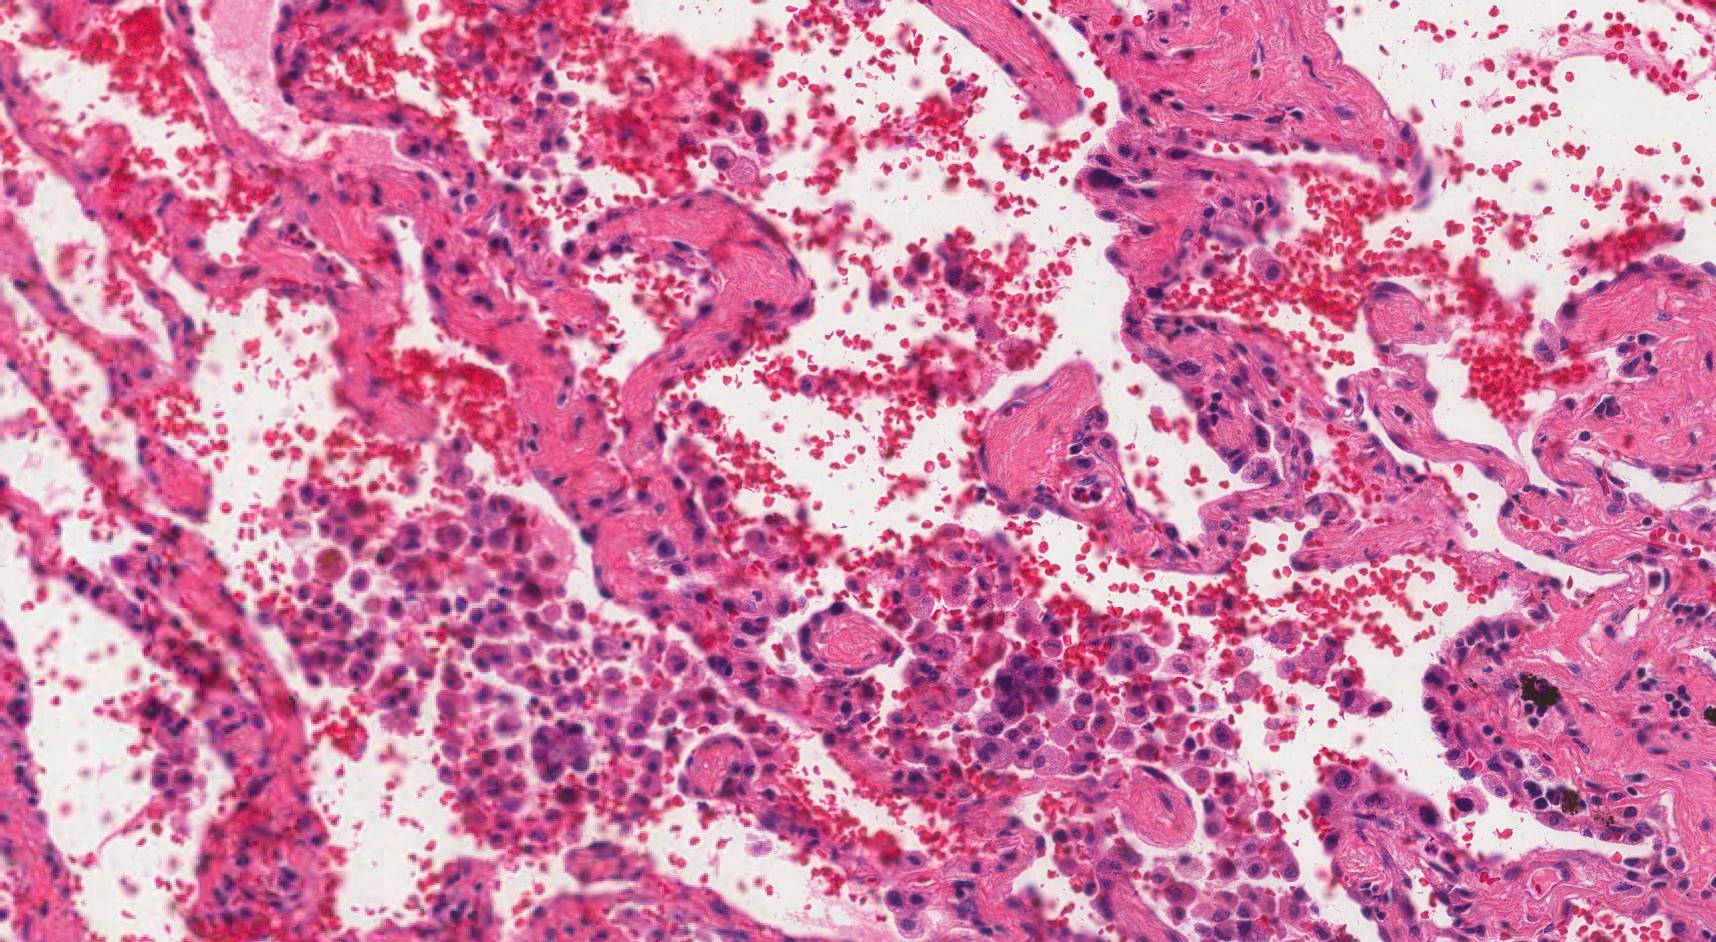stas: (991, 651, 1062, 720), (529, 721, 595, 780)
